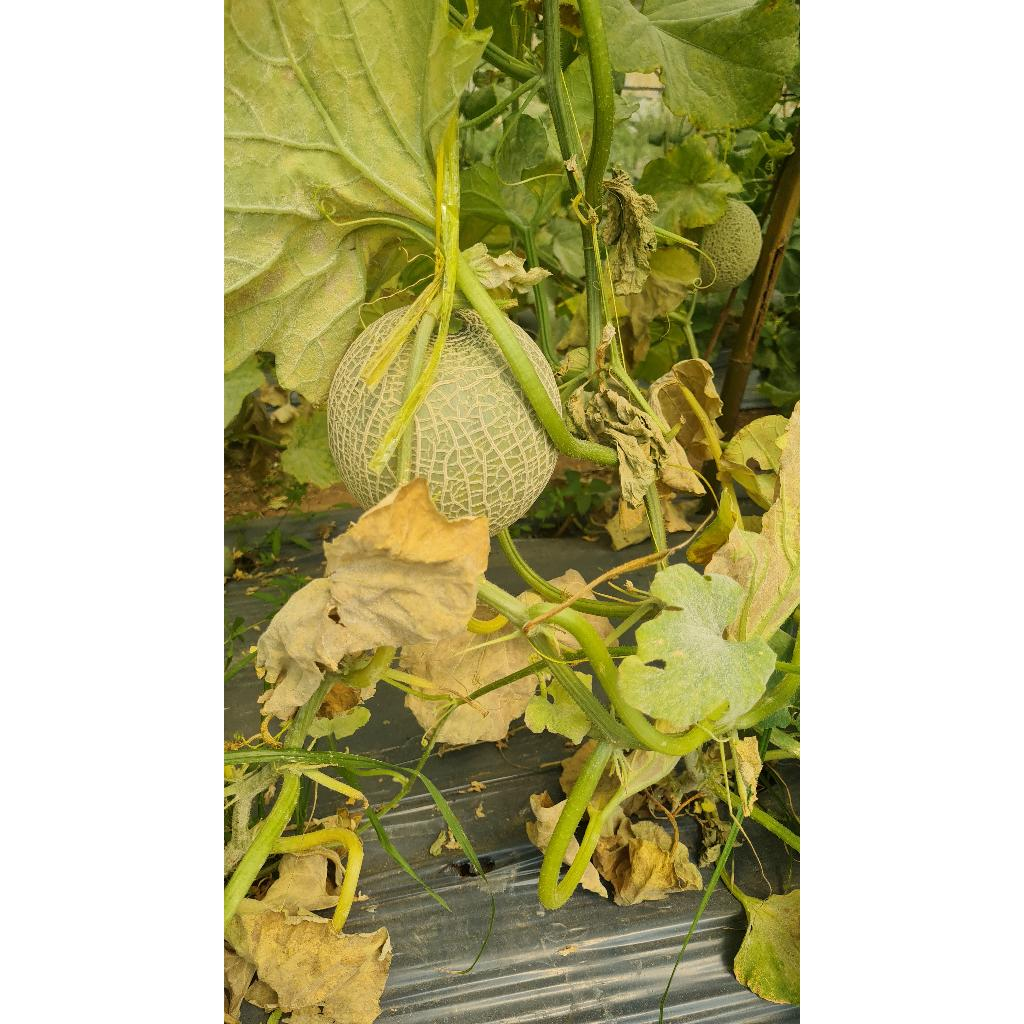melon: (410, 310, 558, 534), (328, 308, 412, 508), (510, 324, 562, 410)
